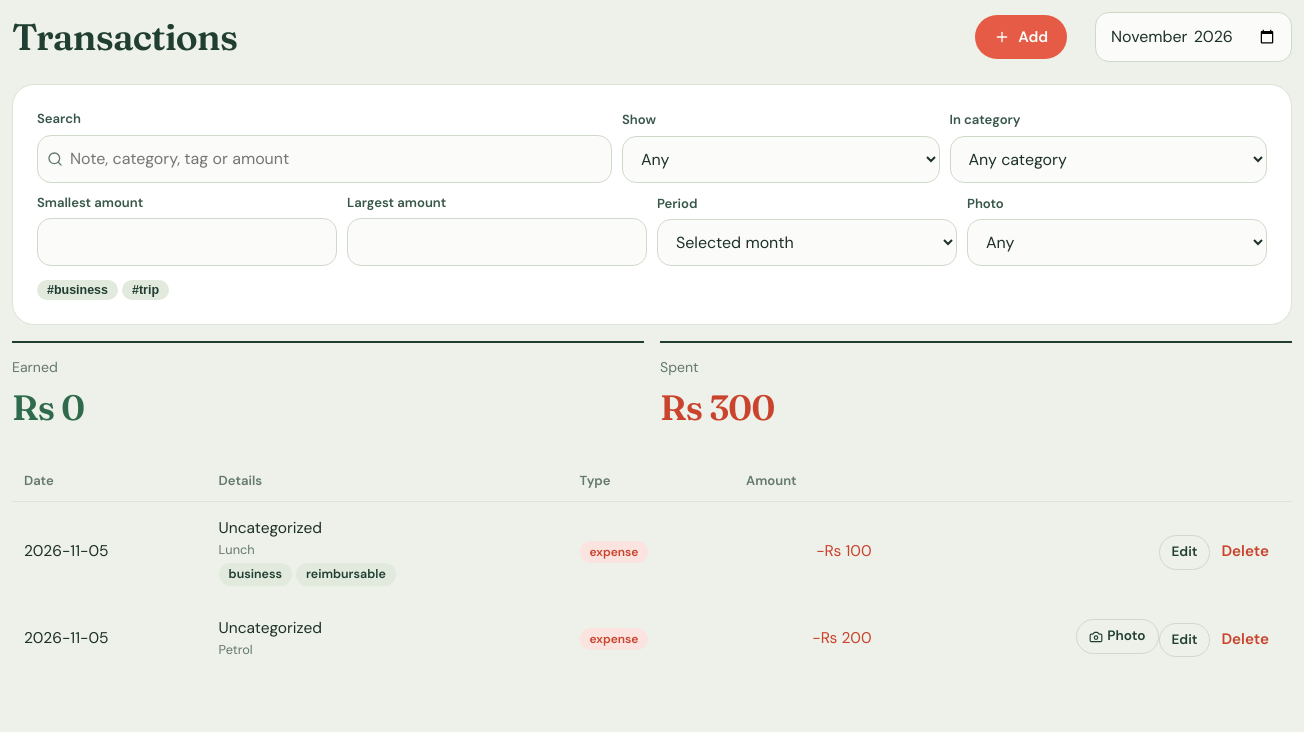
Transactions search and filters › shows only what the search returns
Expected: the text "Lunch" is shown, [219,541,255,558]
Type "pet" into the search field labelled "Search" at x=324, y=159, box [37,135,612,183]
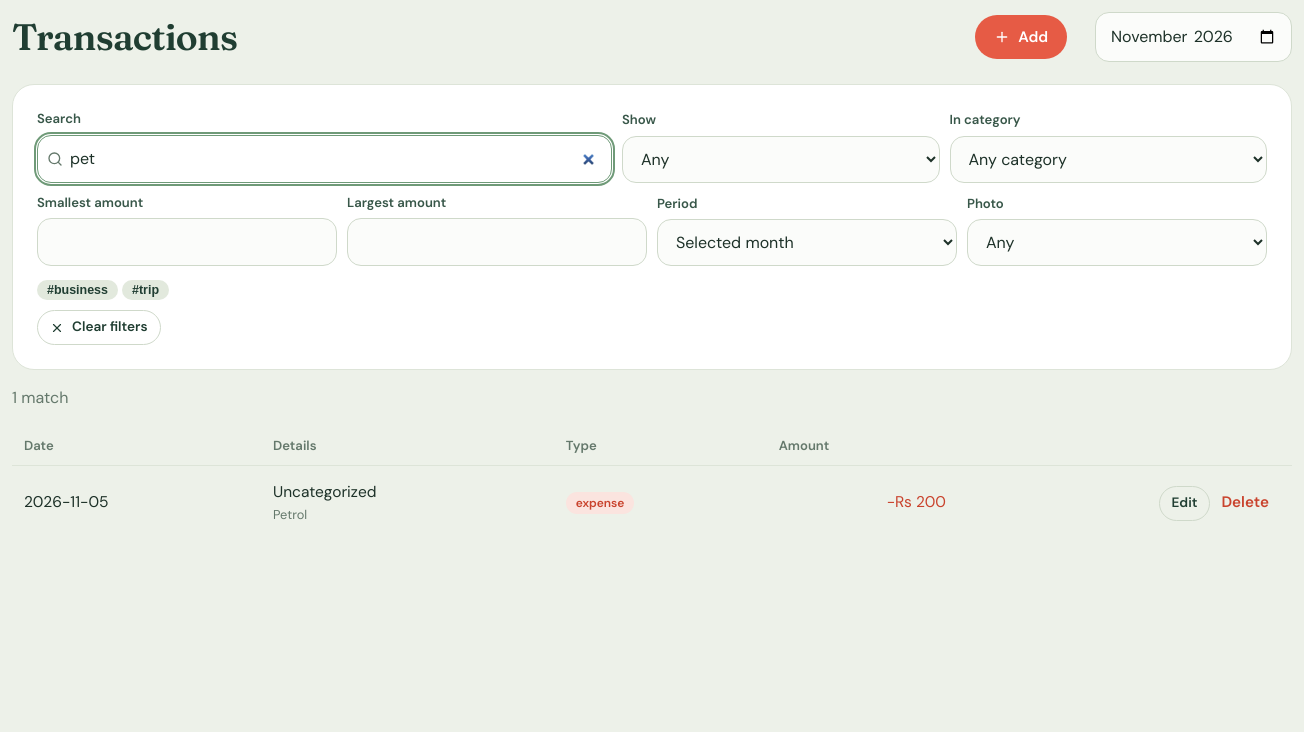
Expected: the text "Petrol" is shown, [273,506,307,523]
Now the text "1 match" is shown, box [12,387,68,408]
Now the text "Lunch" is gone
